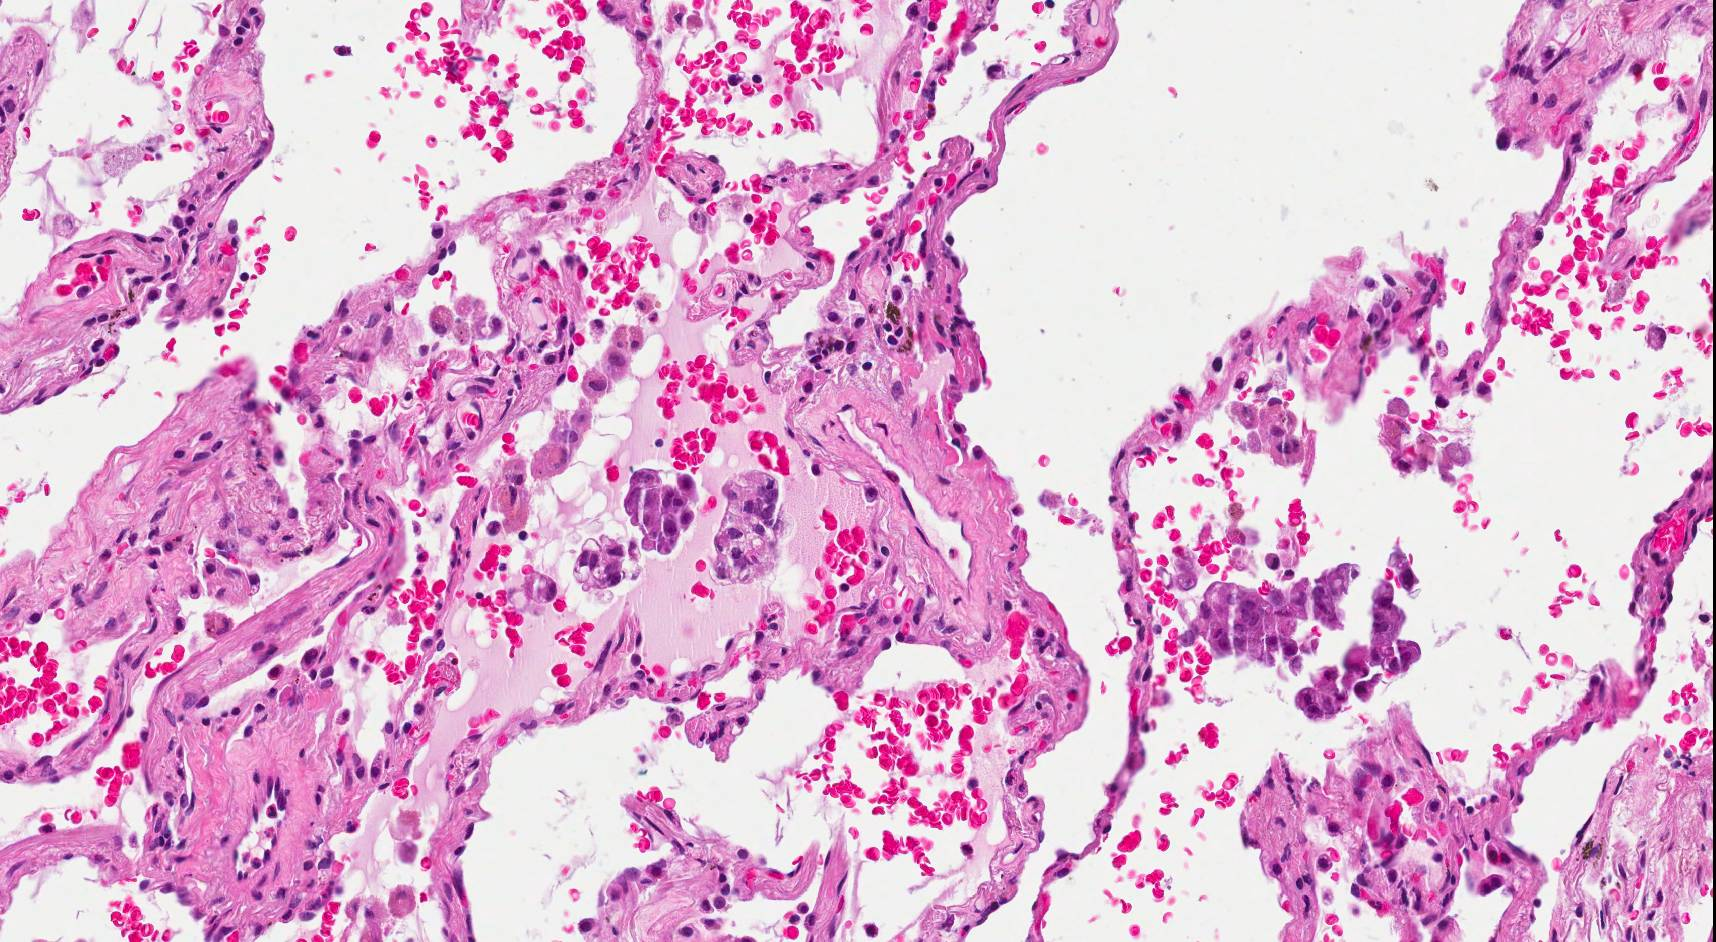stas: (1172, 539, 1429, 721), (709, 466, 786, 596), (621, 466, 702, 561), (569, 532, 642, 600), (521, 571, 558, 606)
